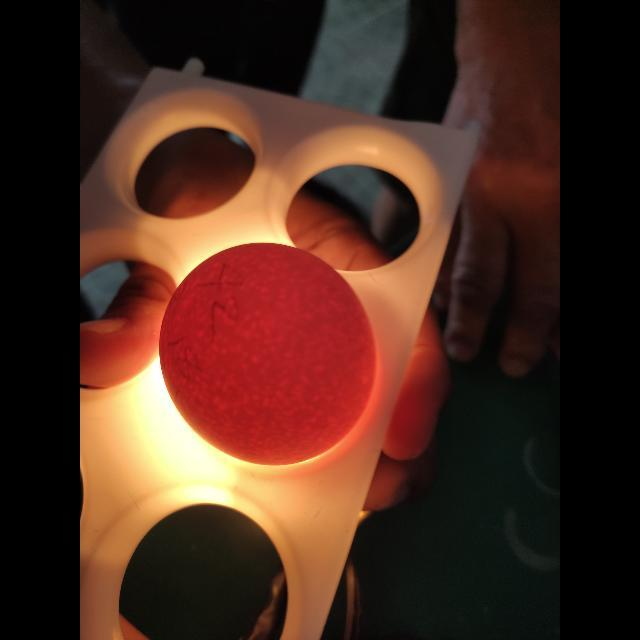Infertile: (160, 242, 376, 464)
